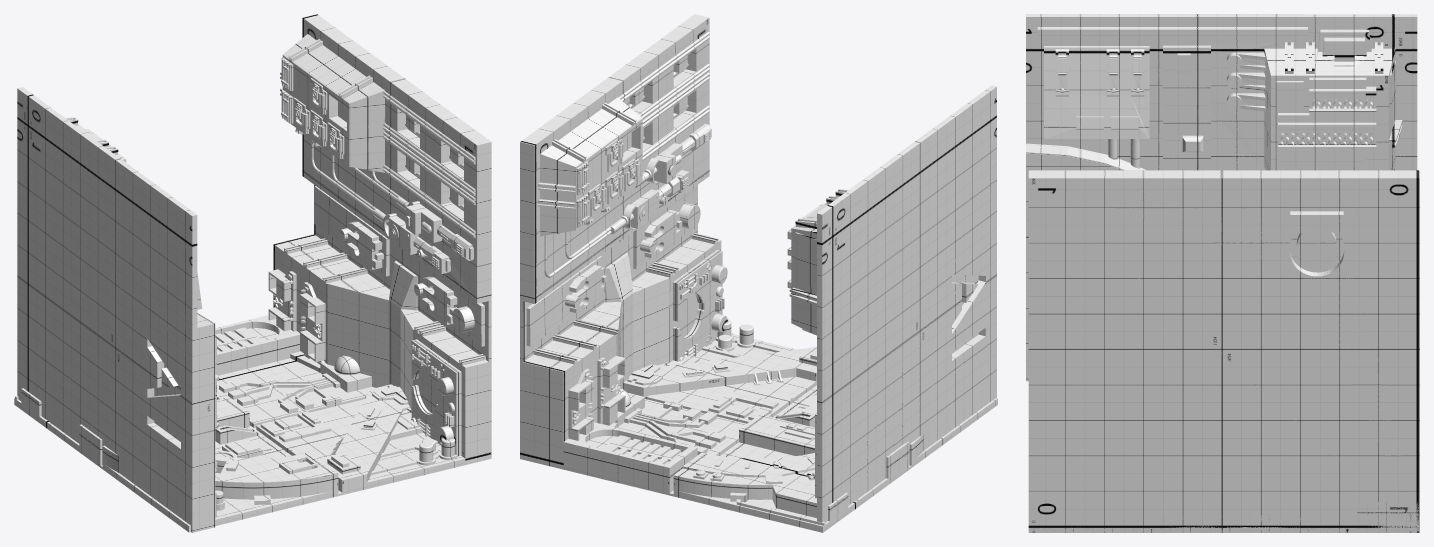
File: LevelD.fbx
3 renders of one model, left to right at view 1: azimuth 30°, elevation 25°; view 2: azimuth 150°, elevation 25°; view 3: azimuth 270°, elevation 25°, orthographic. The views are drawn at different scales.
Parts seen in each view (by area): view 1: d; view 2: d; view 3: d.
Part boxes in pixels (<box>): d: <box>14,14,491,532</box>; d: <box>520,14,997,532</box>; d: <box>1026,14,1419,532</box>.
Size of the model in its own units: 7500 by 7500 by 7550.
